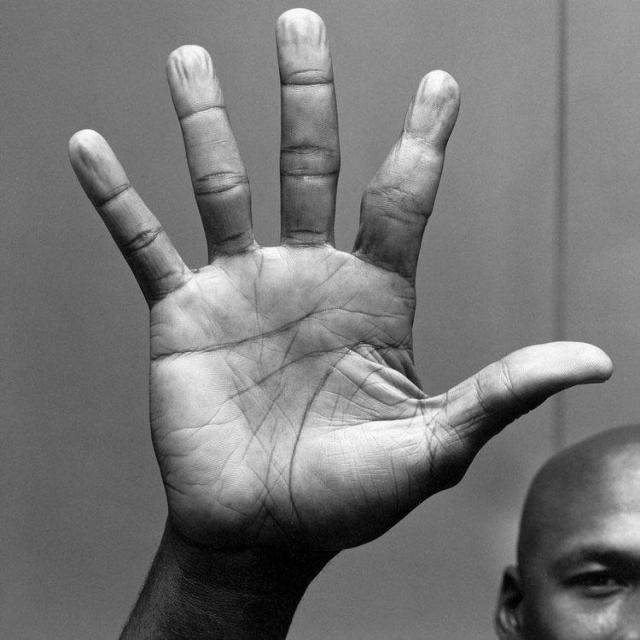stop: (61, 2, 622, 574)
